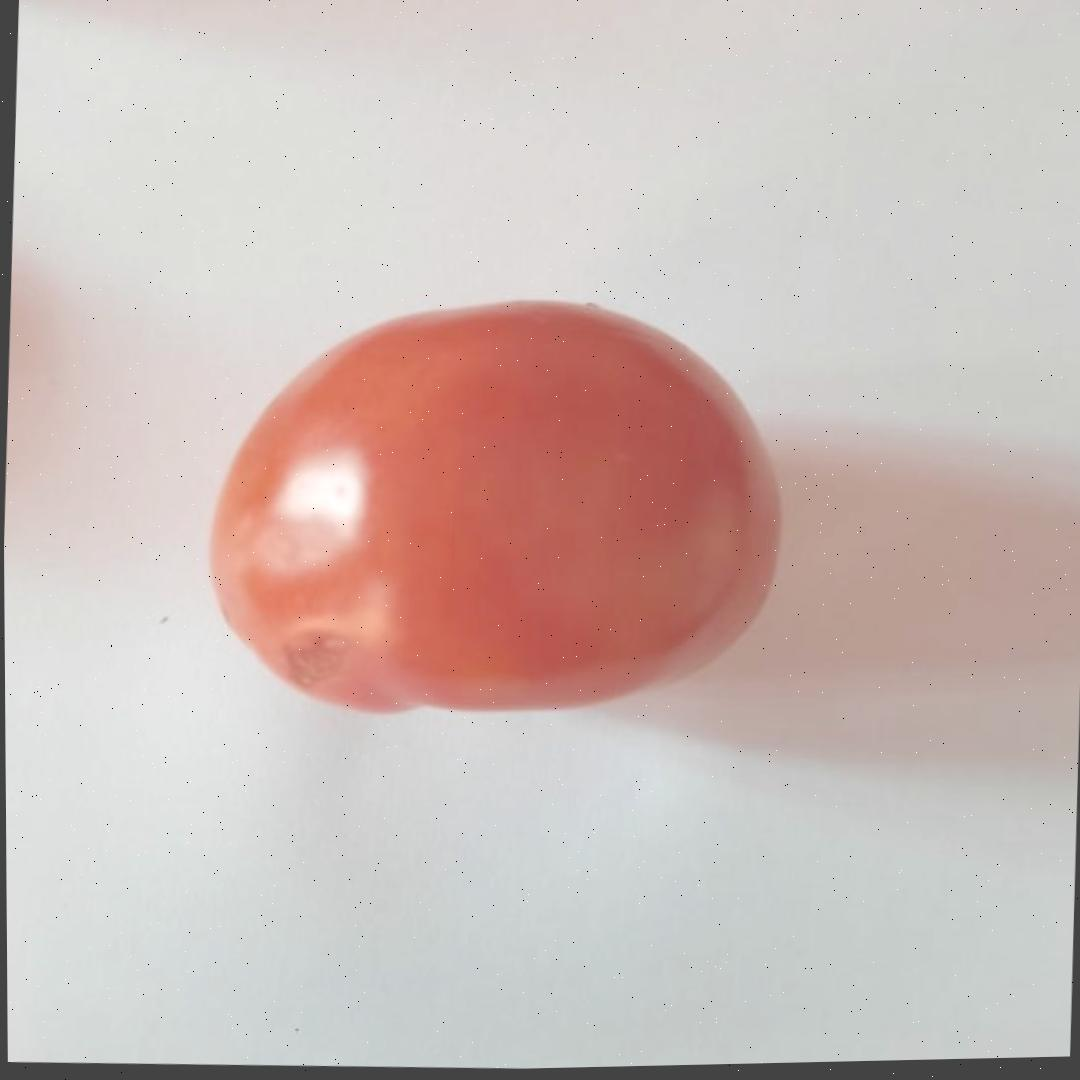matang: (197, 280, 795, 734)
